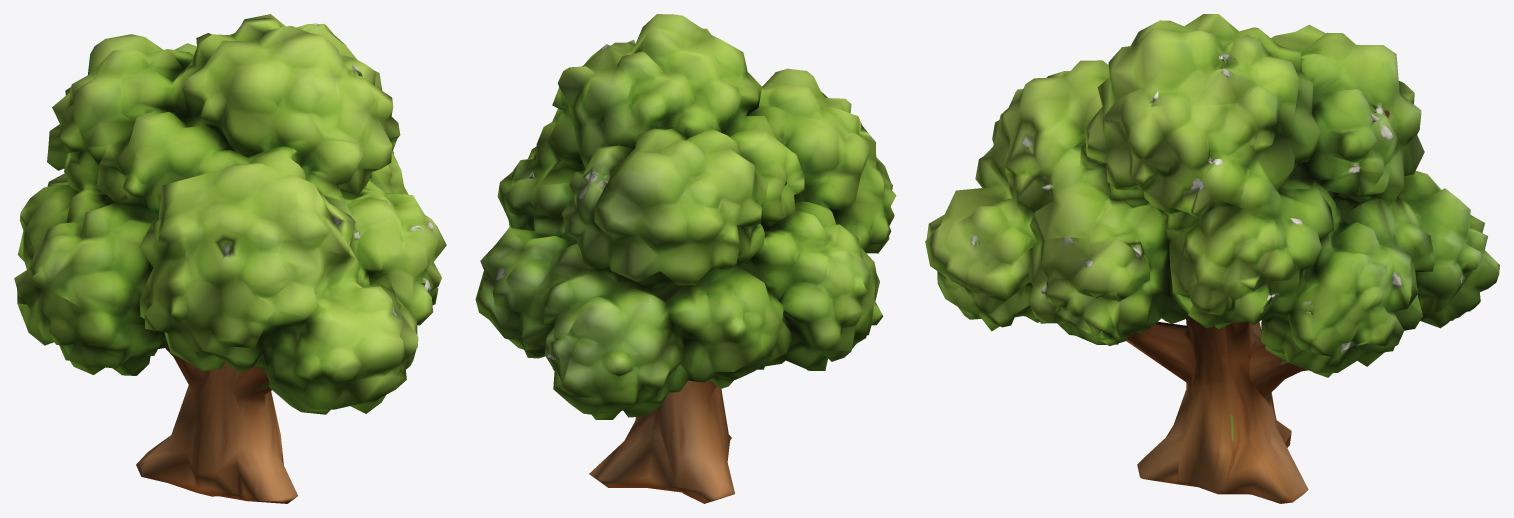
Rendered from tree_2k.glb.
The picture shows the model from 3 angles, left to right: view 1: azimuth 30°, elevation 25°; view 2: azimuth 150°, elevation 25°; view 3: azimuth 270°, elevation 25°; orthographic projection. The views are drawn at different scales.
Bounding box in the file's own units: 0.758 × 0.8709 × 0.9745.
1 material, 1 textured.
